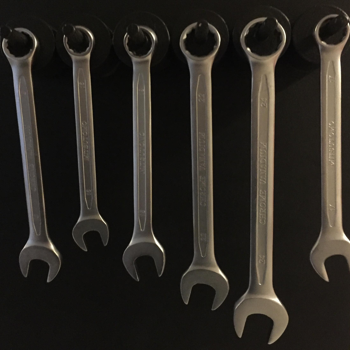bottom: (232, 293, 291, 346), (178, 260, 229, 313), (307, 232, 350, 283), (16, 240, 63, 284), (121, 237, 165, 281), (70, 215, 111, 252)
top: (238, 15, 286, 64), (177, 20, 221, 63), (0, 23, 40, 64), (312, 10, 350, 51), (121, 24, 160, 62), (60, 23, 96, 60)
